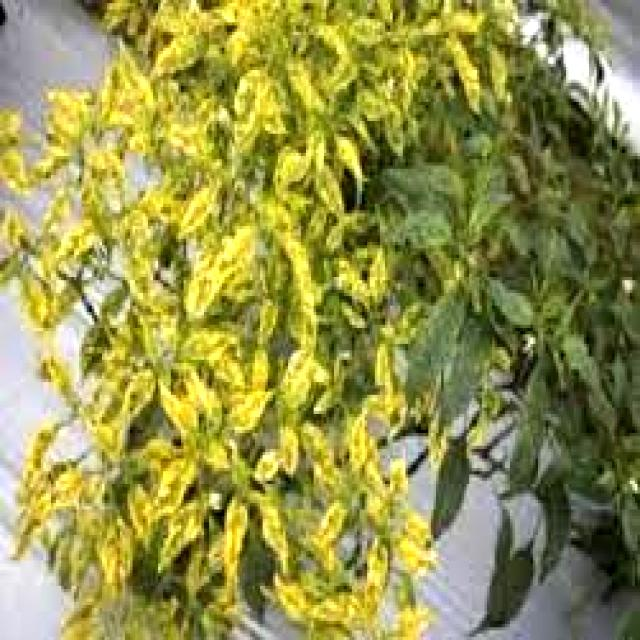yellowish leaf: (9, 11, 514, 640)
